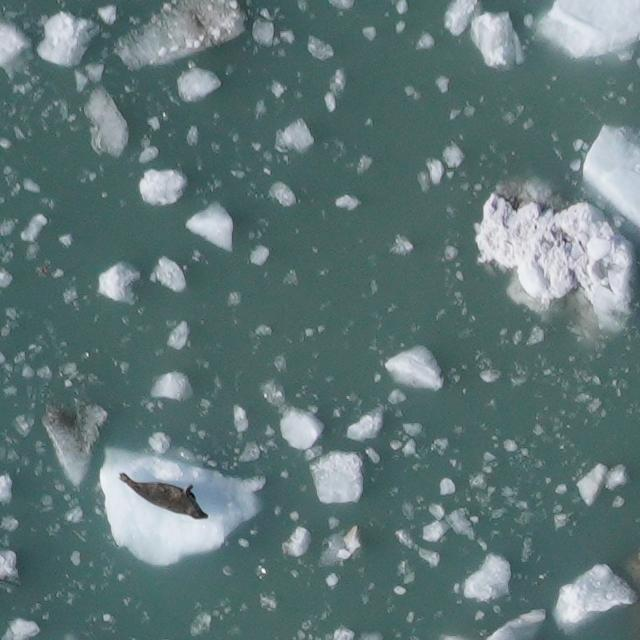seal: (114, 470, 214, 522)
